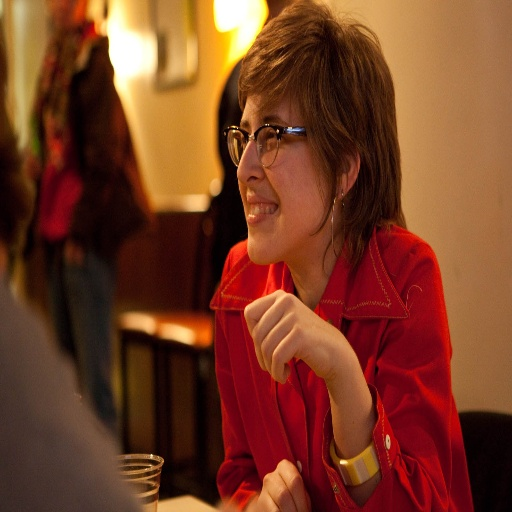hand: (256, 287, 353, 406), (253, 458, 311, 511)
